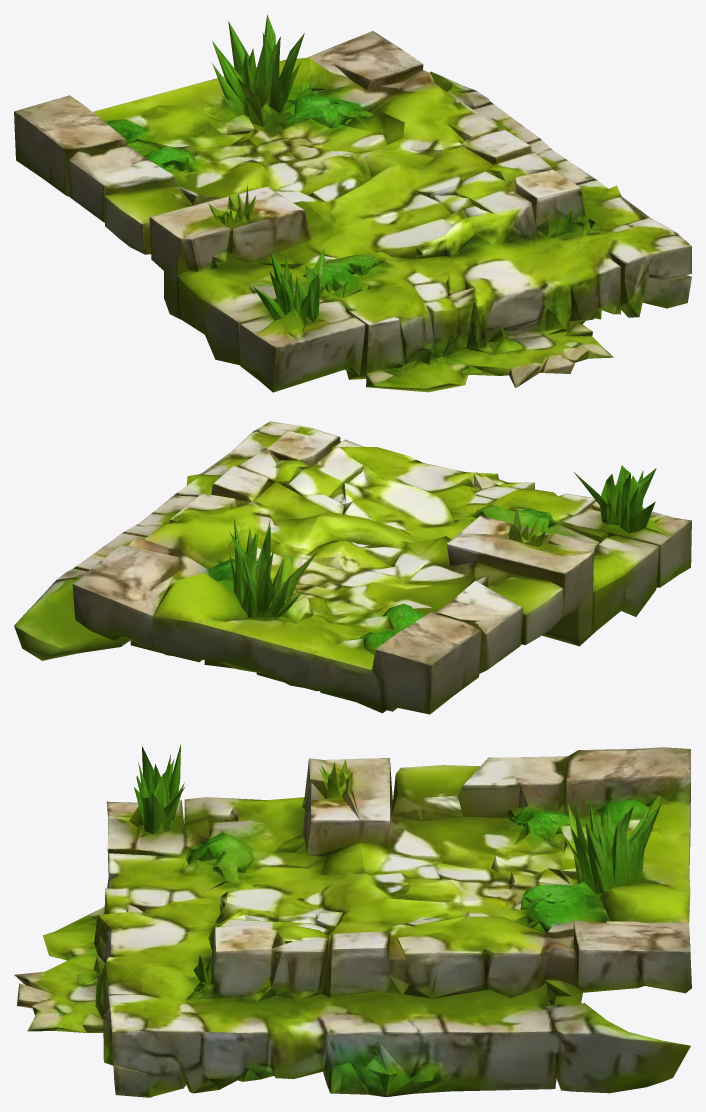
File: m2RuinPlatform.glb
3 views of the same model, one above another, from view 1: azimuth 30°, elevation 25°; view 2: azimuth 150°, elevation 25°; view 3: azimuth 270°, elevation 25° (orthographic). The views are drawn at different scales.
Visible parts, largest first — view 1: model; view 2: model; view 3: model.
Boxes of the visible parts, x1,y1,x2,y2 form: model: [14, 15, 691, 392]; model: [14, 421, 691, 714]; model: [14, 744, 691, 1097].
Size of the model in its own units: 1.55 by 0.5869 by 1.89.
1 material, 1 textured.
